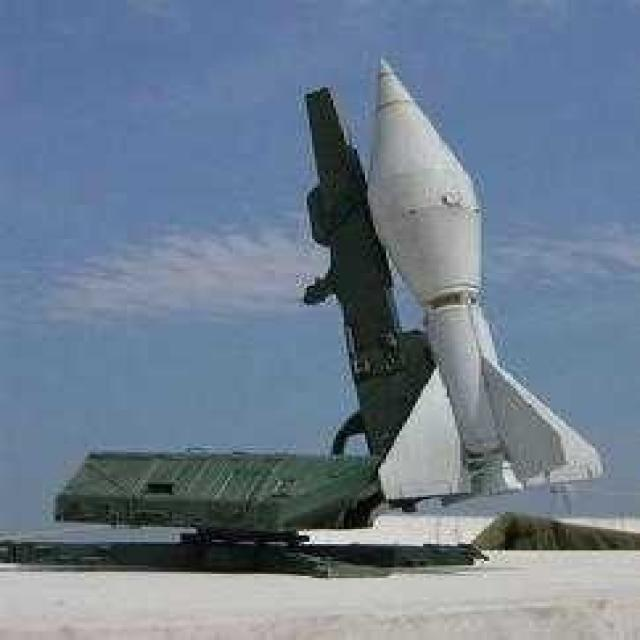missile: (348, 43, 620, 499)
